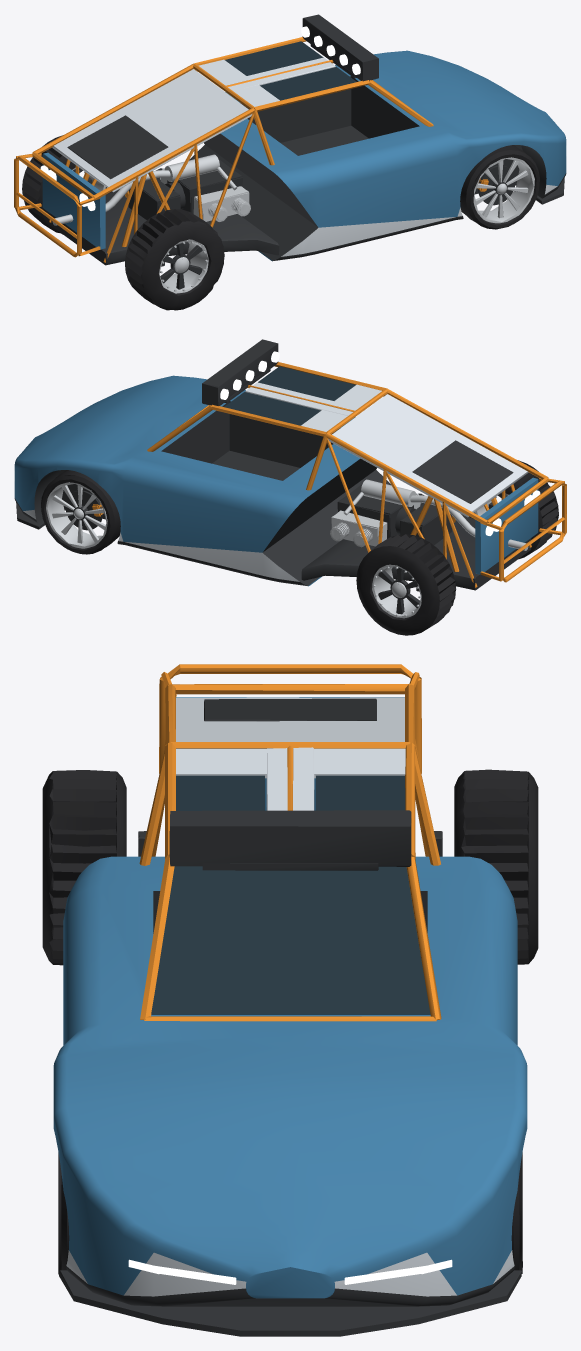
File: knifeedge_blueprint_LOD2.glb
The picture shows the model from 3 angles, top to bottom: view 1: azimuth 30°, elevation 25°; view 2: azimuth 150°, elevation 25°; view 3: azimuth 270°, elevation 25°; orthographic projection. The views are drawn at different scales.
Parts seen in each view (by area): view 1: Body_Shell.001, Body_Deck.001, Wheel_Truck_Tire_-1.001, Detail_Iron, Body_CageRear.001, Body_Floor.001, Body_TailPlate.001, Body_CageRoof.001, Detail_Secondary, Wheel_Coupe_Tire_-1.001, Body_CageBumper.001, Glass_Roof_+1.001 (+12 smaller); view 2: Body_Shell.001, Body_Deck.001, Wheel_Truck_Tire_+1.001, Detail_Iron, Body_CageRear.001, Body_Floor.001, Body_TailPlate.001, Body_CageRoof.001, Detail_Secondary, Wheel_Coupe_Tire_+1.001, Body_CageBumper.001, Glass_Roof_-1.001 (+12 smaller); view 3: Body_Shell.001, Glass_Windshield.001, Detail_Iron, Body_CageRoof.001, Wheel_Truck_Tire_+1.001, Wheel_Truck_Tire_-1.001, Body_Splitter.001, Detail_Secondary, Body_Deck.001, Body_CageRear.001, Body_CageBumper.001, Glass_Roof_+1.001 (+4 smaller).
Part boxes in pixels (box(x1,y1,x2,y2)): Body_Shell.001: box(189, 50, 566, 261); Body_Deck.001: box(52, 69, 252, 192); Wheel_Truck_Tire_-1.001: box(125, 209, 224, 310); Detail_Iron: box(67, 14, 378, 179); Body_CageRear.001: box(32, 64, 255, 262); Body_Floor.001: box(49, 168, 279, 265); Body_TailPlate.001: box(42, 152, 105, 249); Body_CageRoof.001: box(193, 37, 433, 165); Detail_Secondary: box(198, 57, 335, 106); Wheel_Coupe_Tire_-1.001: box(460, 145, 539, 229); Body_CageBumper.001: box(14, 153, 100, 257); Glass_Roof_+1.001: box(225, 41, 323, 75); Body_Shell.001: box(14, 375, 391, 586); Body_Deck.001: box(328, 394, 528, 517); Wheel_Truck_Tire_+1.001: box(356, 534, 456, 635); Detail_Iron: box(202, 339, 513, 503); Body_CageRear.001: box(325, 388, 548, 587); Body_Floor.001: box(301, 493, 531, 590); Body_TailPlate.001: box(475, 477, 538, 574); Body_CageRoof.001: box(147, 362, 387, 490); Detail_Secondary: box(245, 382, 381, 431); Wheel_Coupe_Tire_+1.001: box(41, 470, 120, 554); Body_CageBumper.001: box(480, 478, 566, 582); Glass_Roof_-1.001: box(258, 366, 355, 400); Body_Shell.001: box(53, 856, 527, 1306); Glass_Windshield.001: box(151, 866, 430, 1014); Detail_Iron: box(169, 698, 411, 870); Body_CageRoof.001: box(139, 742, 441, 1021); Wheel_Truck_Tire_+1.001: box(454, 769, 538, 964); Wheel_Truck_Tire_-1.001: box(42, 770, 126, 965); Body_Splitter.001: box(59, 1270, 521, 1336); Detail_Secondary: box(176, 747, 405, 810); Body_Deck.001: box(176, 697, 404, 741); Body_CageRear.001: box(152, 684, 428, 856); Body_CageBumper.001: box(159, 664, 421, 773); Glass_Roof_+1.001: box(316, 775, 405, 810).
Size of the model in its own units: 5.22 by 1.76 by 2.24.
